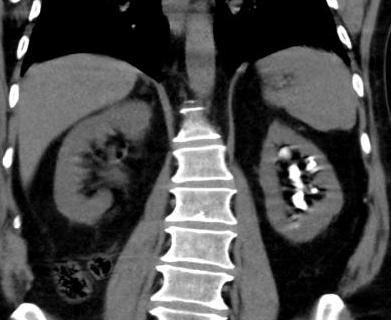Tas_Var: (288, 190, 308, 213), (286, 163, 301, 181), (278, 144, 294, 160), (304, 160, 318, 172), (292, 181, 308, 189), (310, 188, 319, 195), (307, 154, 313, 160)
